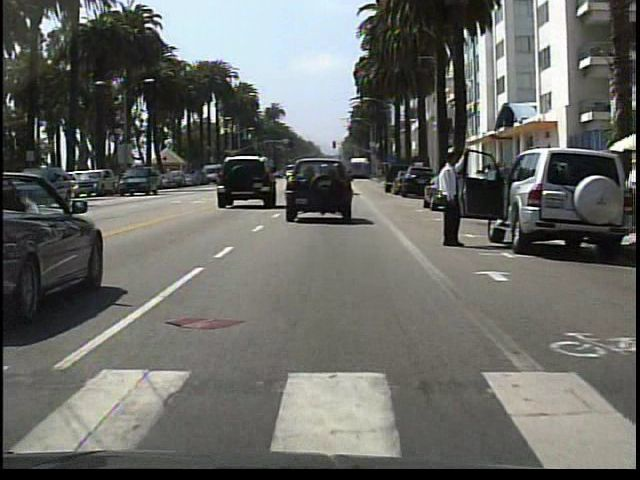person: (428, 142, 470, 256)
